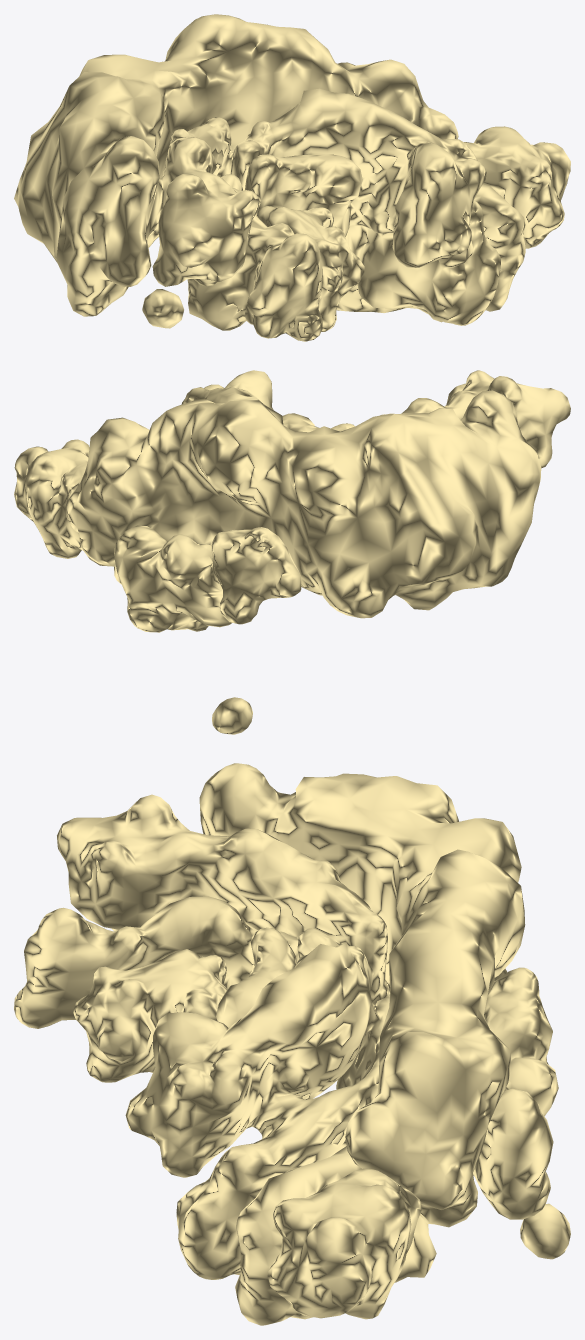
Rendered from Golgi_Apparatus.fbx.
The picture shows the model from 3 angles, top to bottom: view 1: azimuth 30°, elevation 25°; view 2: azimuth 150°, elevation 25°; view 3: azimuth 270°, elevation 25°; orthographic projection. The views are drawn at different scales.
Parts seen in each view (by area): view 1: Golgi_Apparatus; view 2: Golgi_Apparatus; view 3: Golgi_Apparatus.
Boxes of the visible parts, x1,y1,x2,y2 form: Golgi_Apparatus: (14,14,570,341); Golgi_Apparatus: (14,370,570,734); Golgi_Apparatus: (14,763,570,1325).
Size of the model in its own units: 1019 by 605 by 741.
